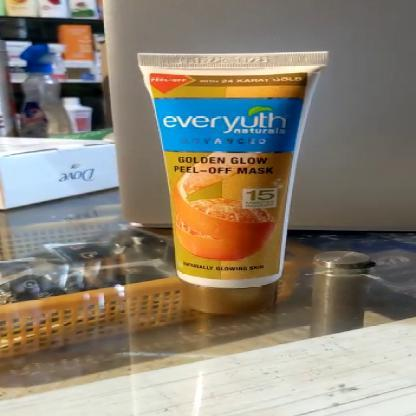EY ADVANCED GOLDEN GLOW PEEL OFF M- 90G: (134, 52, 326, 316)
